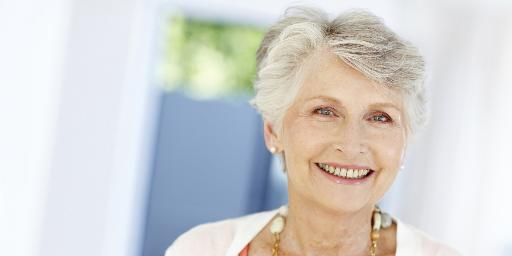left_eye: (366, 112, 396, 125)
left_lip_corner: (369, 166, 379, 176)
right_eye: (310, 107, 341, 120)
right_lip_corner: (311, 160, 325, 169)
